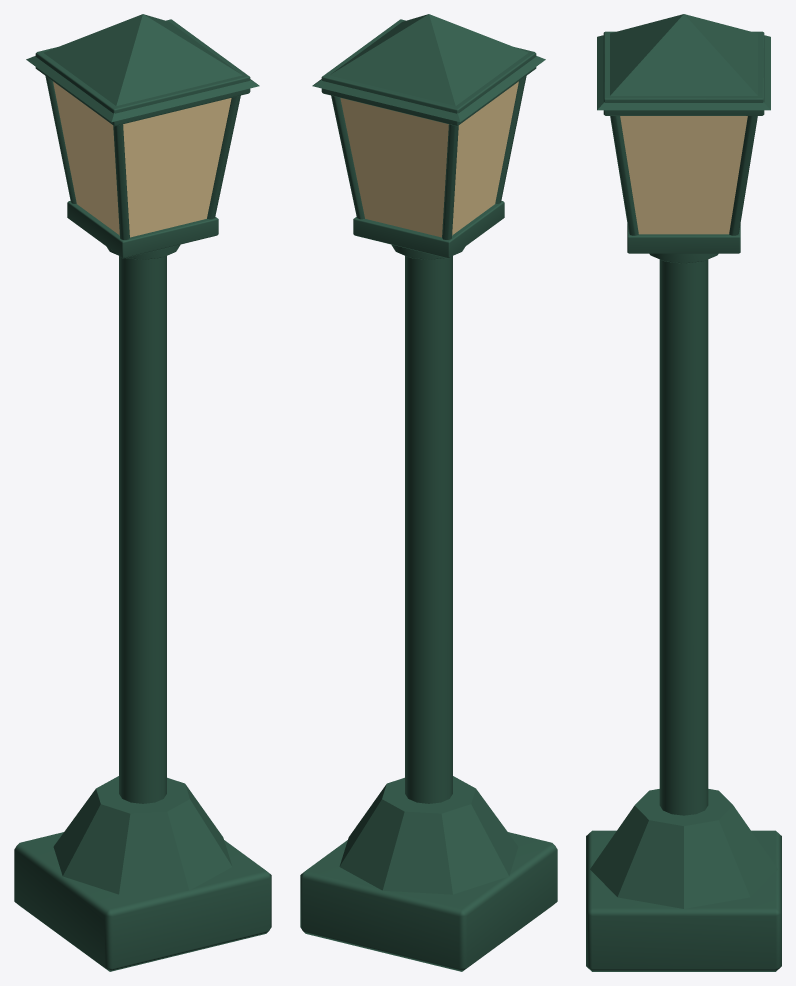
Rendered from S051_street_lamp_simple.glb.
The picture shows the model from 3 angles, left to right: view 1: azimuth 30°, elevation 25°; view 2: azimuth 150°, elevation 25°; view 3: azimuth 270°, elevation 25°; orthographic projection.
Visible parts, largest first — view 1: Lamp_dark_green_paint, Lamp_opaque_warm_panes; view 2: Lamp_dark_green_paint, Lamp_opaque_warm_panes; view 3: Lamp_dark_green_paint, Lamp_opaque_warm_panes.
Part boxes in pixels (x1,y1,x2,y2): Lamp_dark_green_paint: [14, 14, 271, 971]; Lamp_opaque_warm_panes: [53, 81, 231, 237]; Lamp_dark_green_paint: [300, 14, 557, 971]; Lamp_opaque_warm_panes: [340, 81, 518, 237]; Lamp_dark_green_paint: [586, 14, 781, 971]; Lamp_opaque_warm_panes: [620, 116, 747, 234].
Bounding box in the file's own units: 0.25 × 1.29 × 0.25.
